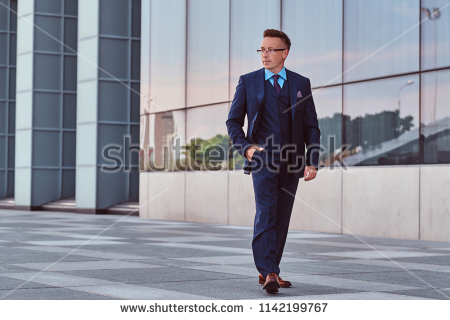feet: (249, 259, 298, 296)
